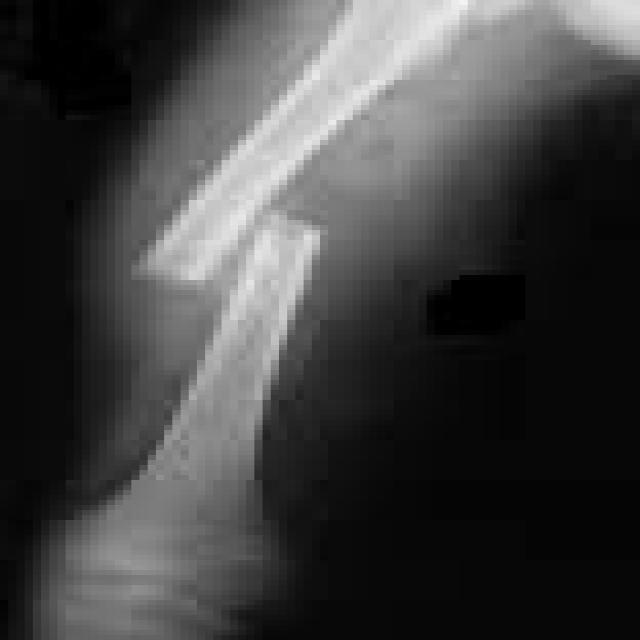Broken: (131, 7, 459, 282), (124, 204, 320, 485)
